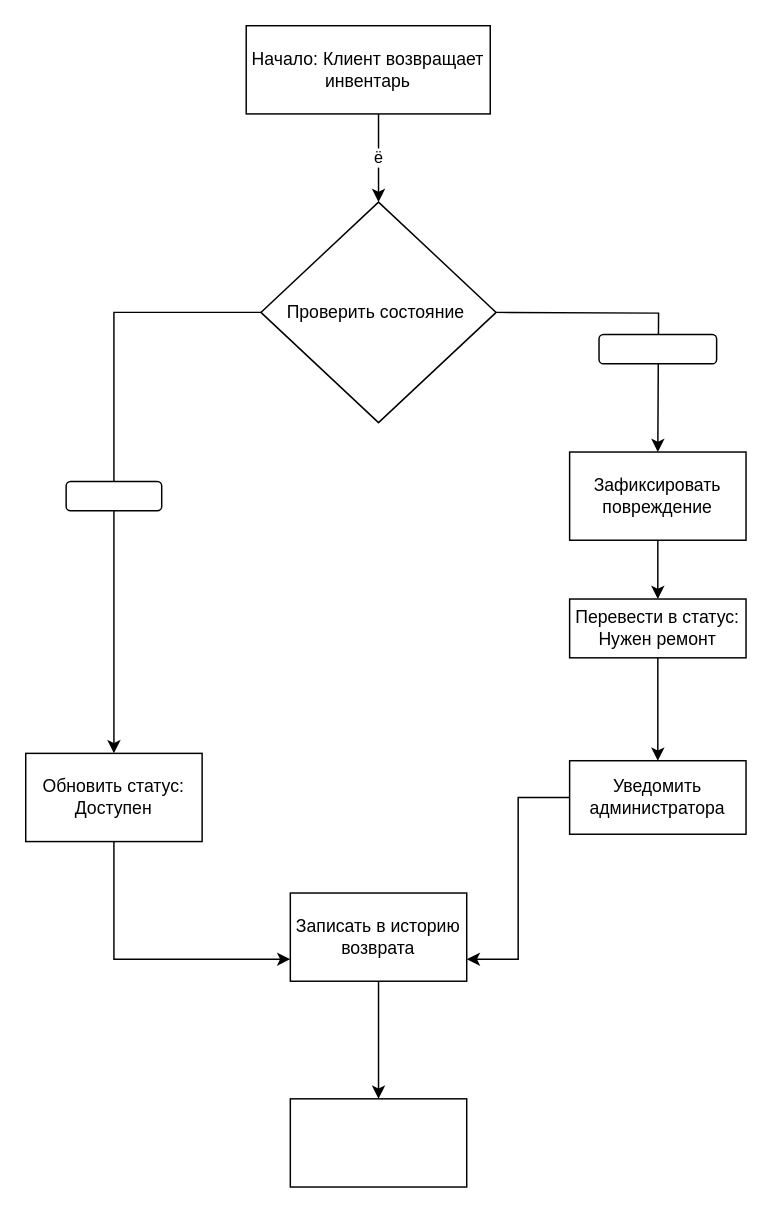
Some shapes in this 772 by 1213 pixel diagram are drawn without their labels. The centre of each missing label's shape, as x and y in pixels:
"Исправен" belongs at [113,495].
"Конец процесса" belongs at [378,1142].
"Неисправен" belongs at [657,348].
